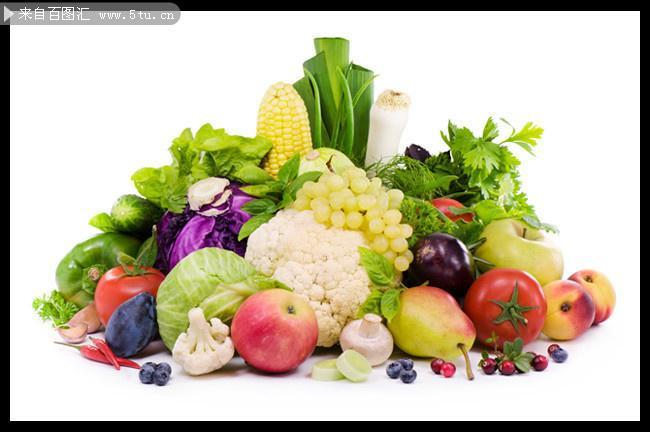apple: (230, 287, 317, 373), (473, 217, 564, 286), (542, 277, 597, 338), (569, 268, 616, 325)
